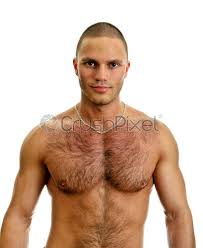white_male: (70, 40, 132, 105)
